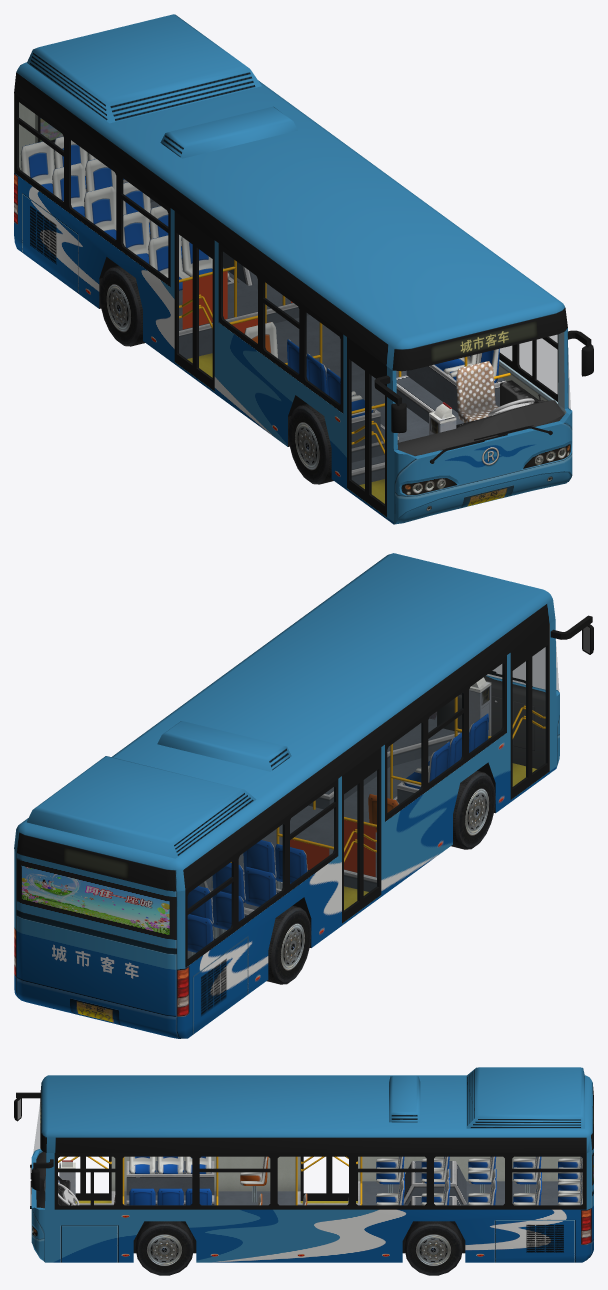
Rendered from bus.FBX.
The picture shows the model from 3 angles, top to bottom: view 1: azimuth 30°, elevation 25°; view 2: azimuth 150°, elevation 25°; view 3: azimuth 270°, elevation 25°; orthographic projection. The views are drawn at different scales.
Visible parts, largest first — view 1: bus_body, bus_window, wheel02, wheel04; view 2: bus_body, bus_window, wheel04, wheel02; view 3: bus_body, wheel03, wheel01.
Boxes of the visible parts, box(x1,y1,x2,y2) form: bus_body: box(14, 14, 593, 524); bus_window: box(17, 102, 570, 504); wheel02: box(288, 404, 333, 484); wheel04: box(99, 266, 144, 346); bus_body: box(14, 553, 593, 1038); bus_window: box(188, 646, 558, 959); wheel04: box(266, 905, 311, 984); wheel02: box(451, 771, 495, 849); bus_body: box(14, 1067, 593, 1262); wheel03: box(404, 1221, 462, 1275); wheel01: box(135, 1221, 193, 1275).
Size of the model in its own units: 333 by 322 by 1098.
